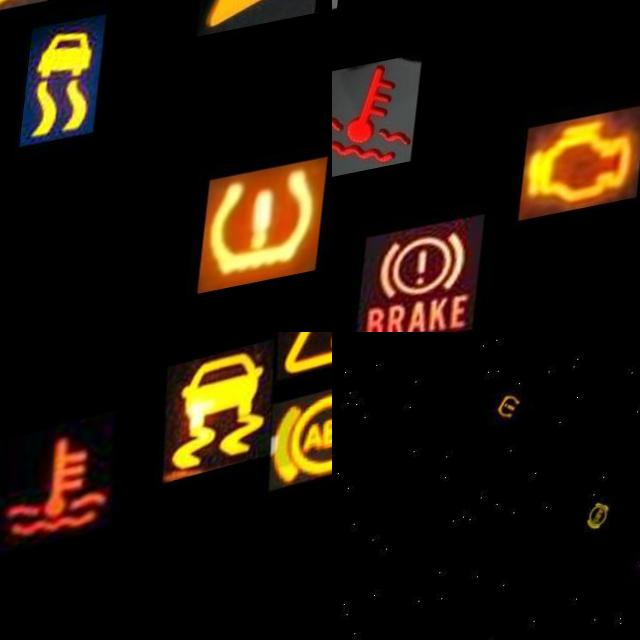Central Warning lamp: (204, 0, 332, 56), (278, 332, 332, 403)
Engine cooling system: (0, 422, 134, 568), (332, 69, 429, 196)
